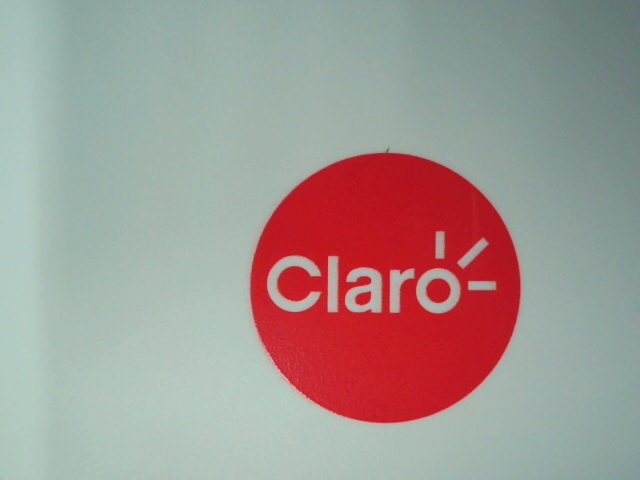BC_ClaorRed: (233, 145, 534, 432)
